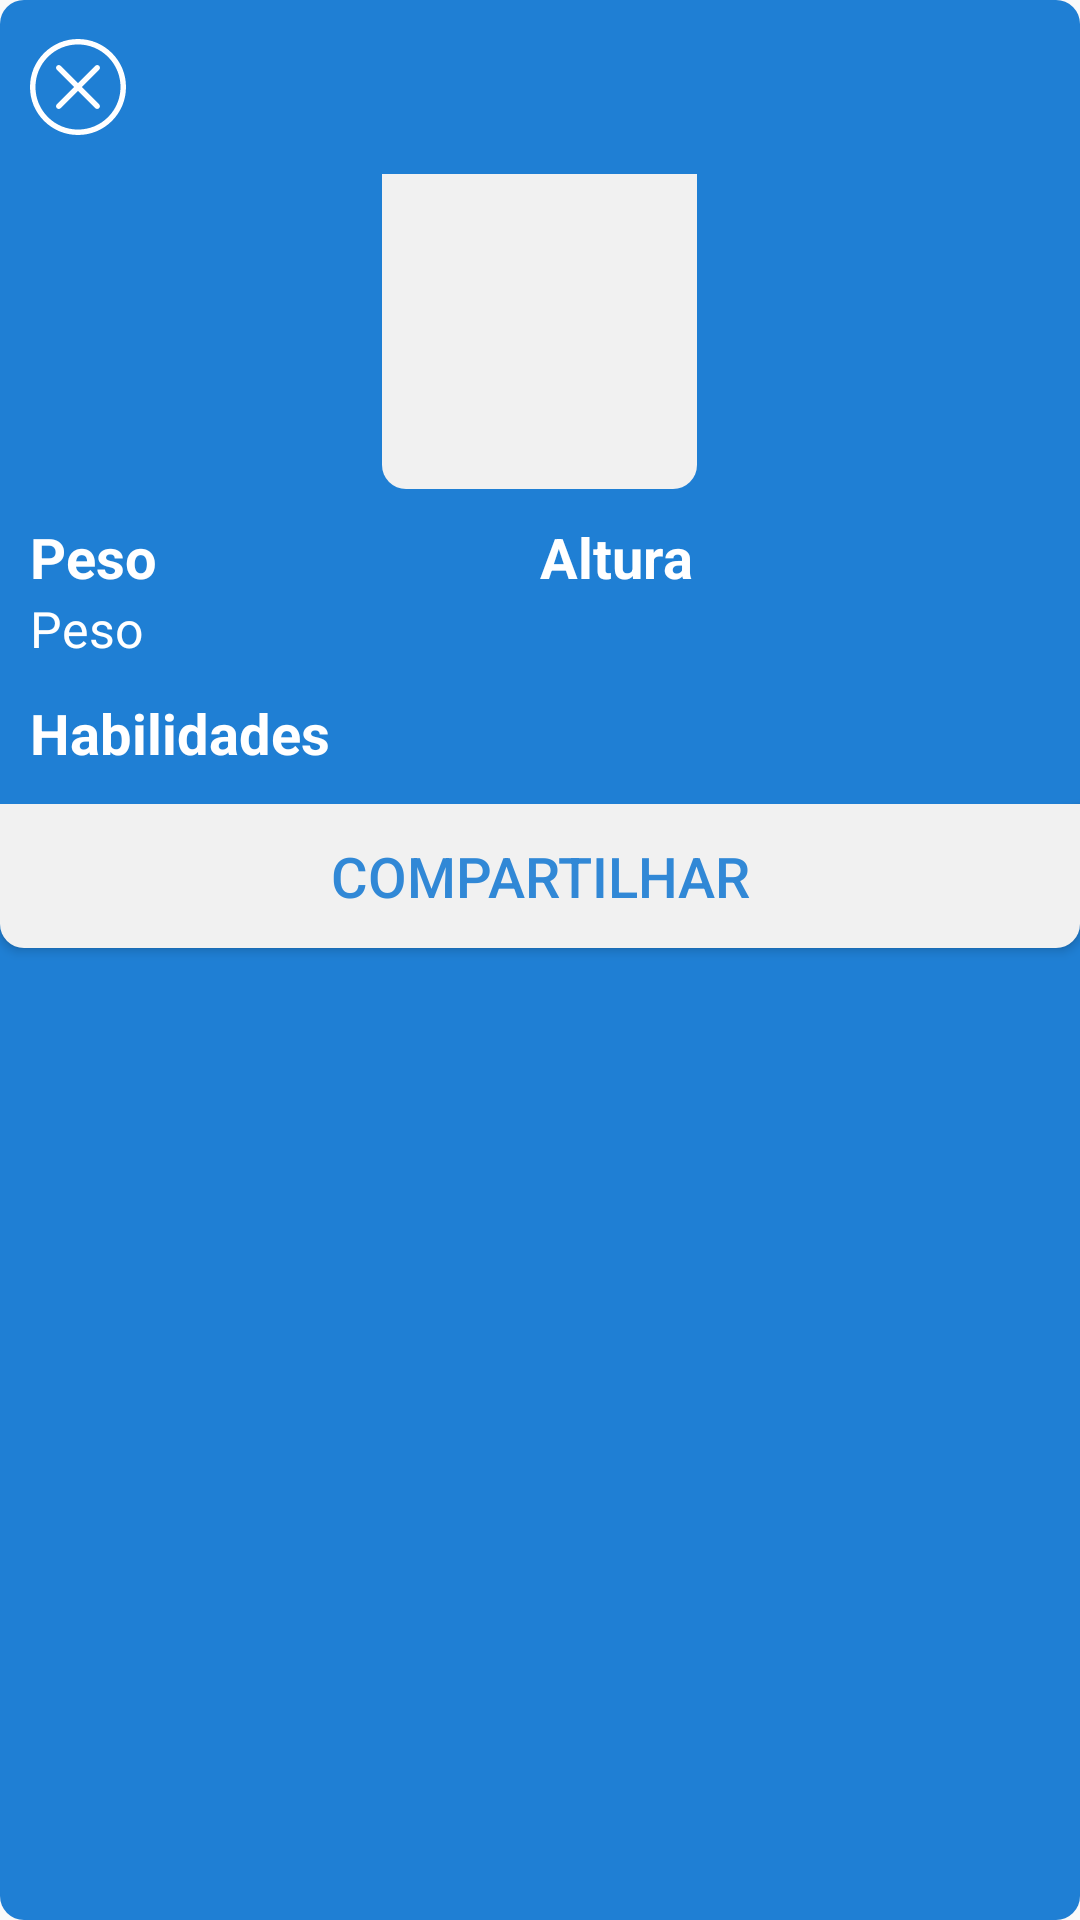

Icons on this 1080×1920 Android screen, each with the point to tap as [x,y]:
cancel: [78,87]
